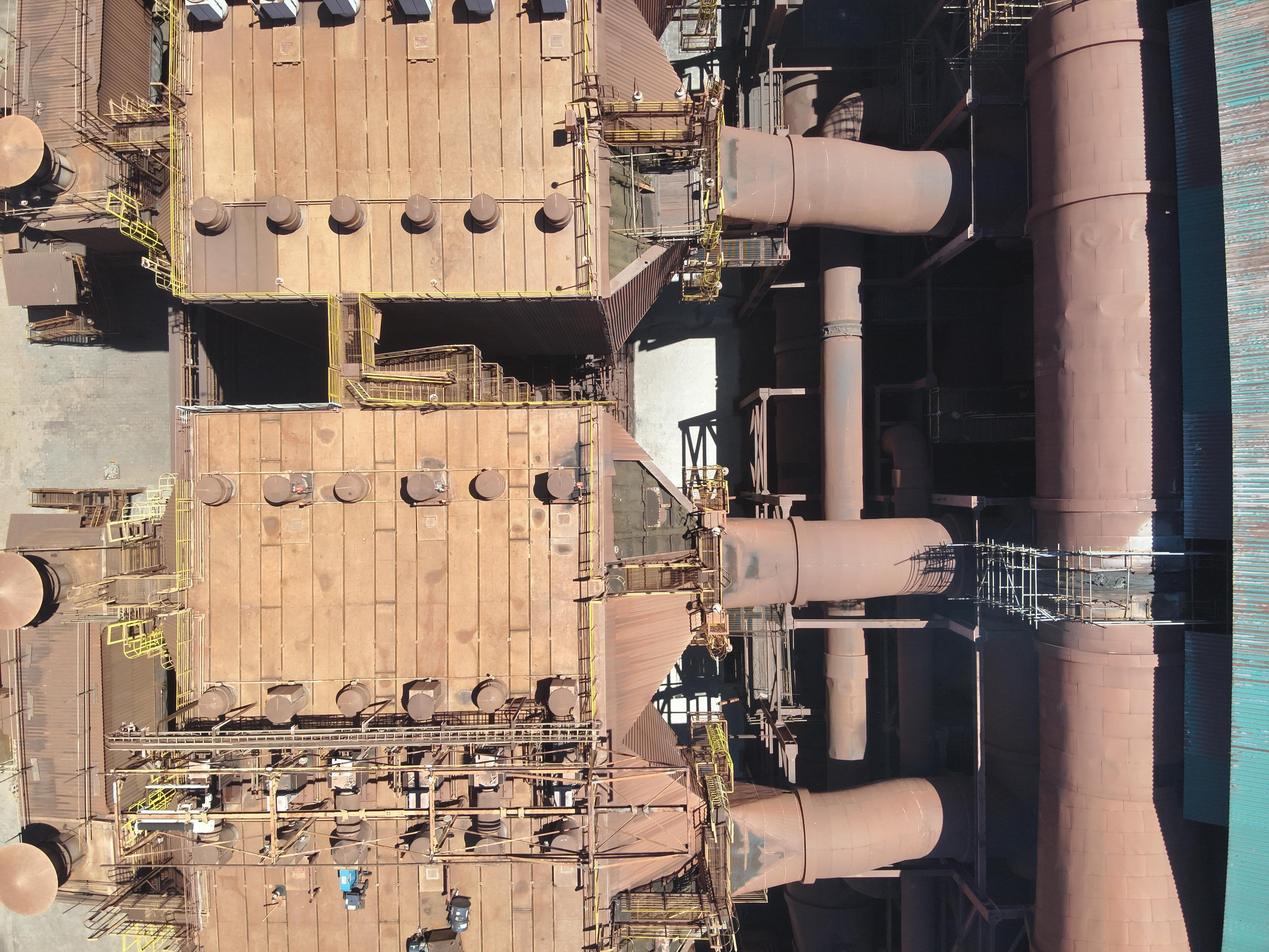Failures: (610, 457, 699, 555), (607, 148, 659, 286), (1057, 563, 1193, 598)
